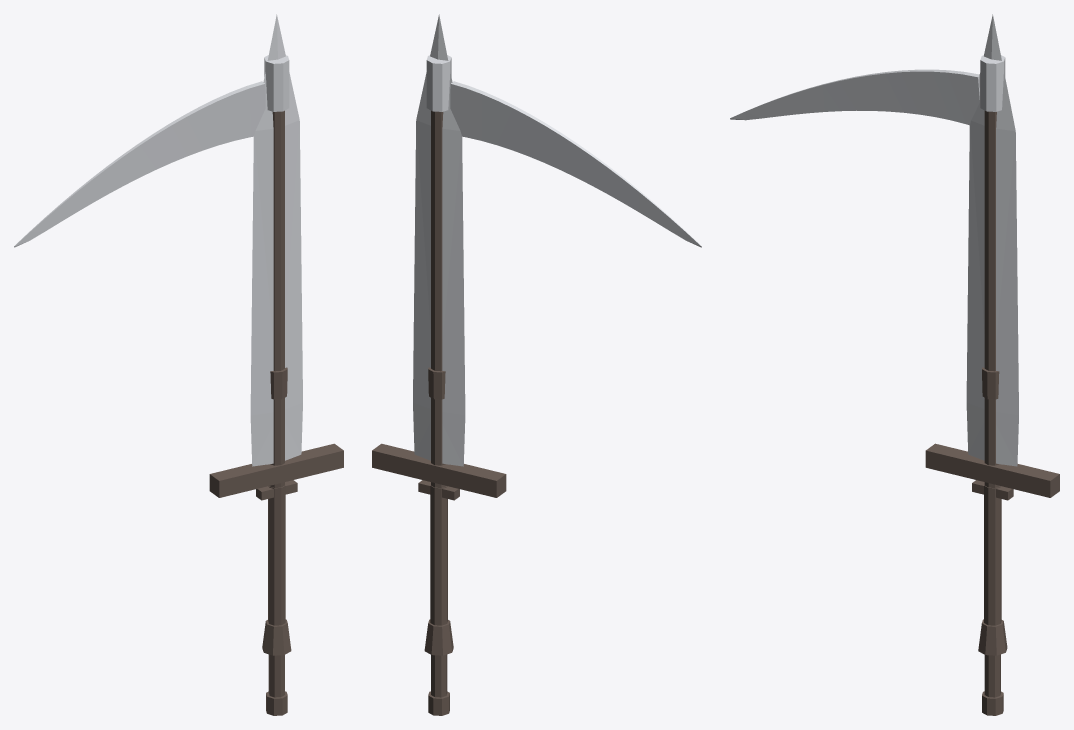
Rendered from Weapons.fbx.
3 renders of one model, left to right at view 1: azimuth 30°, elevation 25°; view 2: azimuth 150°, elevation 25°; view 3: azimuth 330°, elevation 25°, orthographic.
Parts seen in each view (by area): view 1: Greatsword, Scythe; view 2: Greatsword, Scythe; view 3: Greatsword, Scythe.
Part boxes in pixels (x1=…): Greatsword: x1=209, y1=14, x2=343, y2=655; Scythe: x1=14, y1=55, x2=289, y2=715; Greatsword: x1=372, y1=14, x2=506, y2=655; Scythe: x1=426, y1=55, x2=701, y2=715; Greatsword: x1=925, y1=14, x2=1059, y2=655; Scythe: x1=730, y1=55, x2=1005, y2=715.
Bounding box in the file's own units: 0.99 × 2.03 × 0.08.
